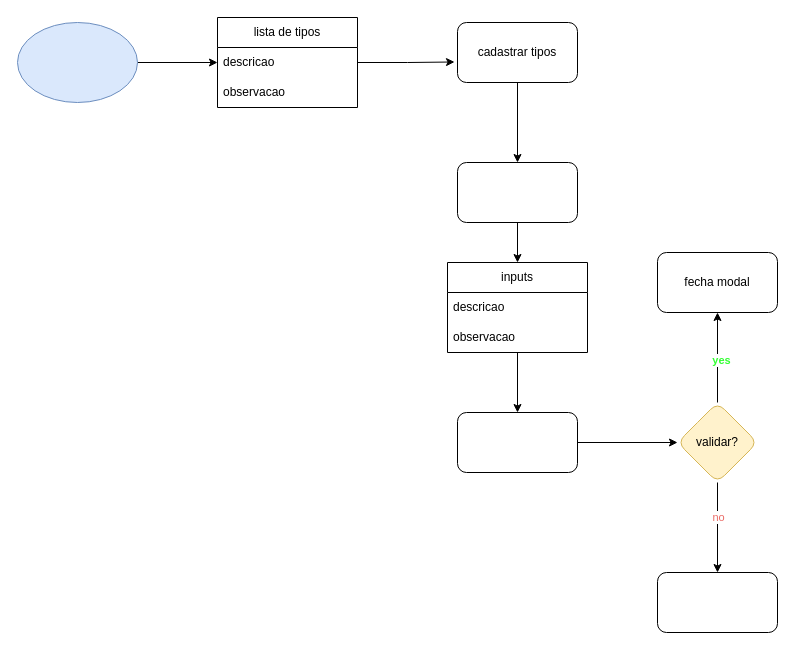
This 795x650 diagram has some shape labels left out. The centre of each missing label's shape, as x and y in pixels:
"modal" belongs at [517,192].
"mostrar erro, voltar ao modal" belongs at [717,602].
"salvar" belongs at [517,442].
